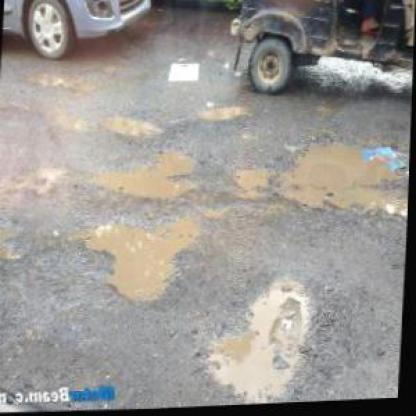pothole: (202, 266, 327, 408), (80, 205, 208, 311), (87, 144, 202, 204), (100, 107, 162, 140), (232, 161, 274, 201), (196, 100, 250, 125), (0, 220, 28, 266)
